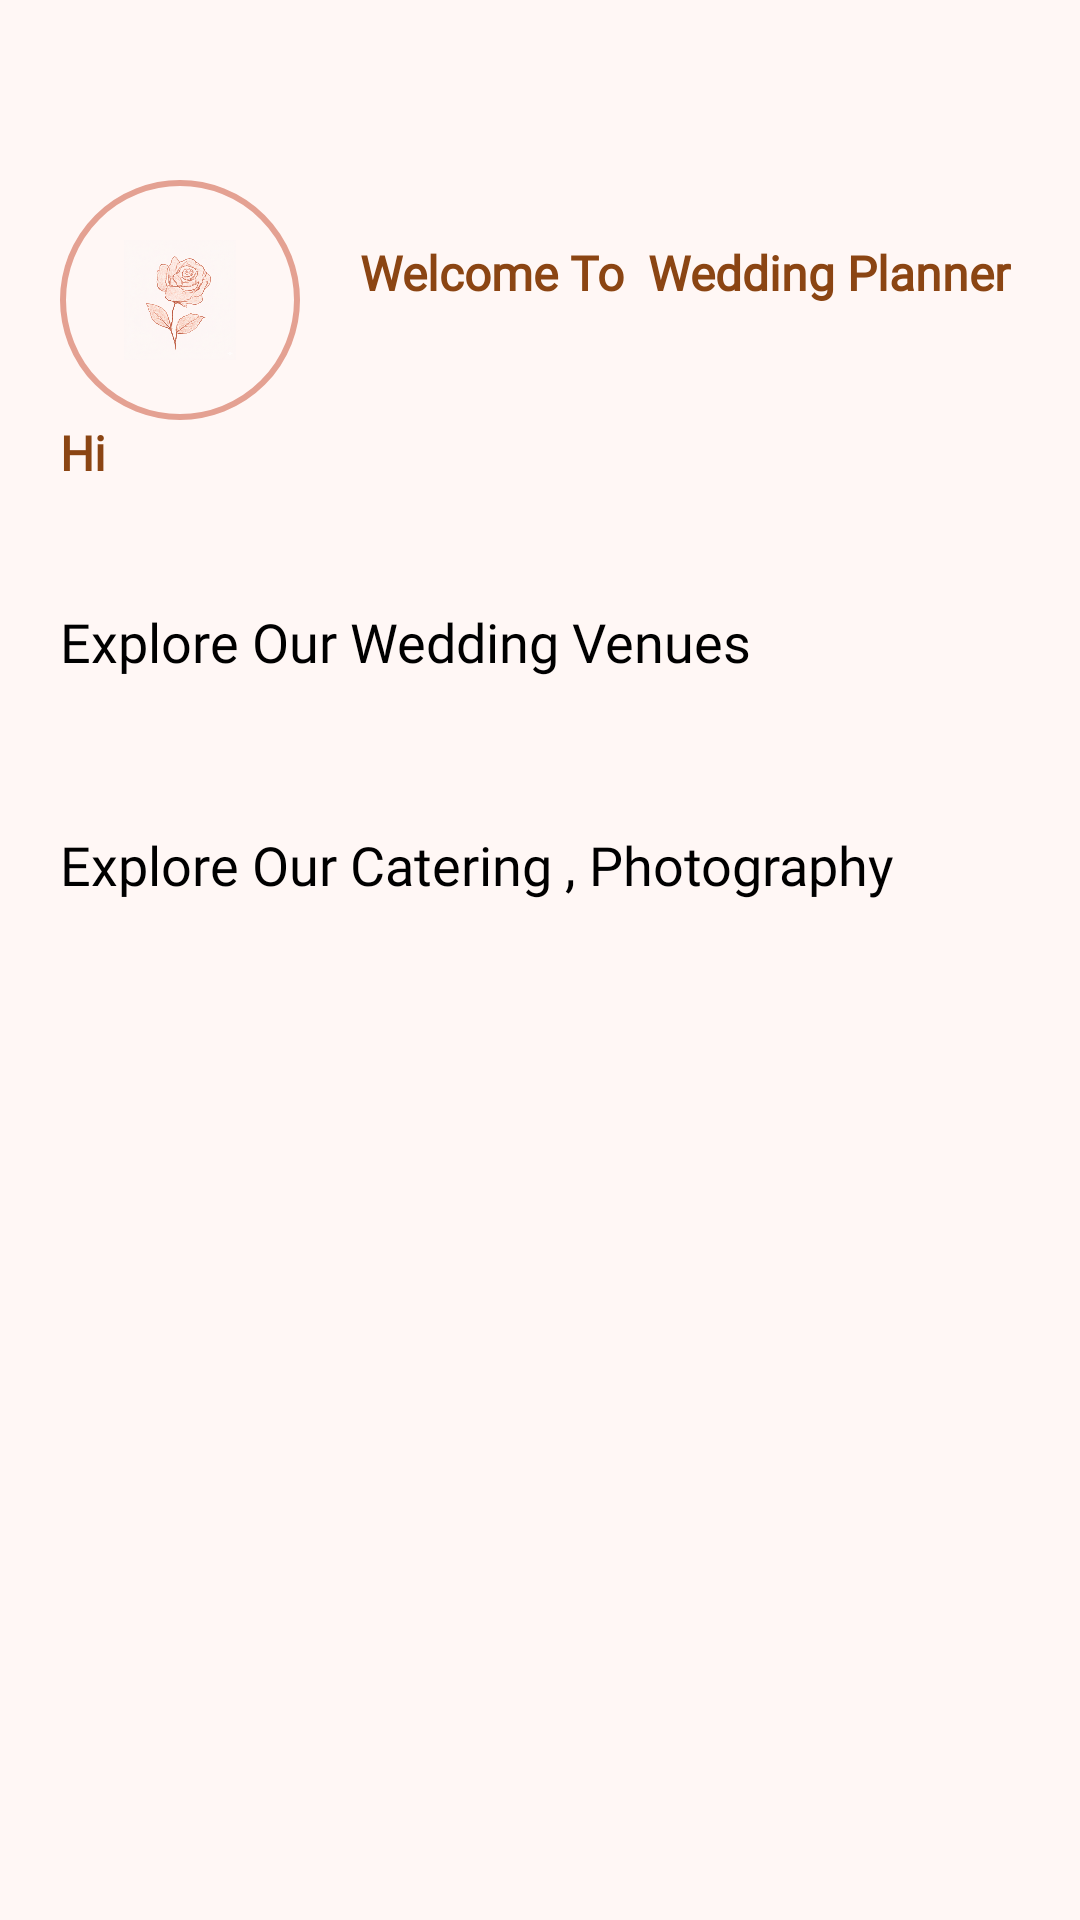

Screen size 1080 x 1920. Icon name, then its center in pixels as point (x, y):
rose: point (178, 303)
